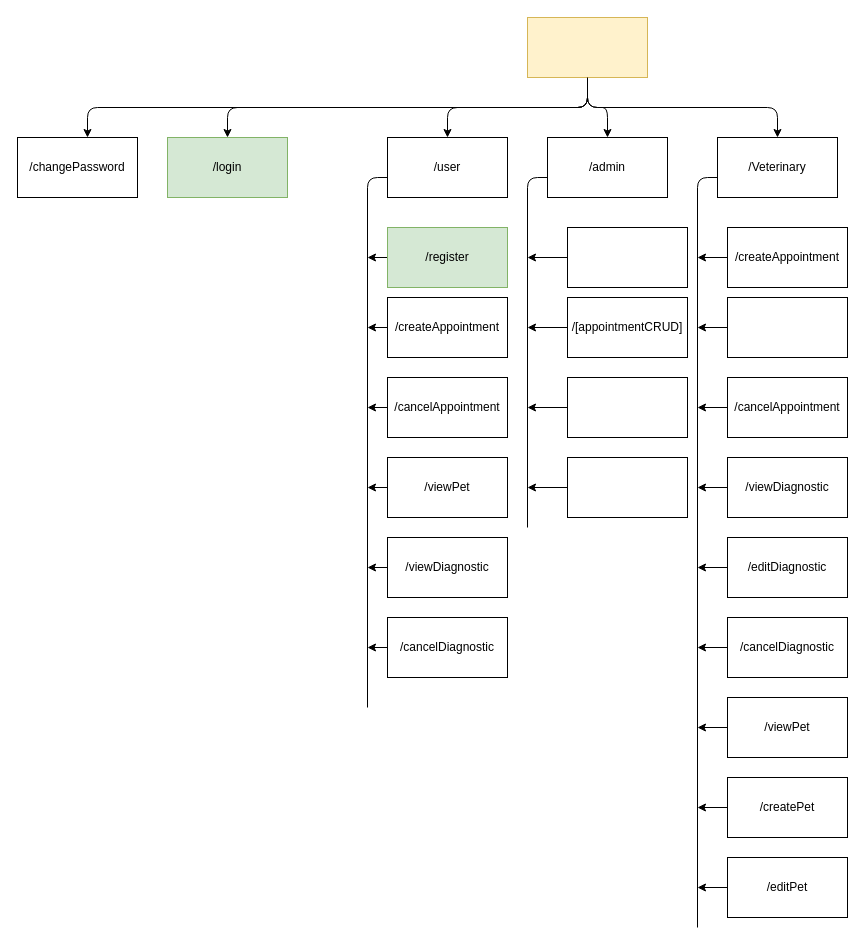
Image size: 865x946. Some labels were removed from this diagram. Here are the shapes that lost their labels. From the top down, the box of each, then its label:
(526, 16, 648, 78): veterinary (/)
(566, 226, 688, 288): /[userCRUD]
(726, 296, 848, 358): /editAppointment
(566, 376, 688, 438): /[petsCRUD]
(566, 456, 688, 518): /[diagnosticCRUD]
